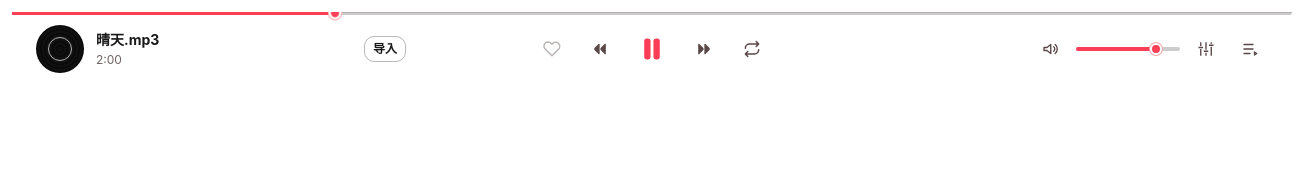
Scenario: PlayerBar (task 11.7) — temporary item label › imports the current temporary file when clicked
Step 1. Click the button "导入" → click(385, 49), box x1=364 y1=36 x2=406 y2=62
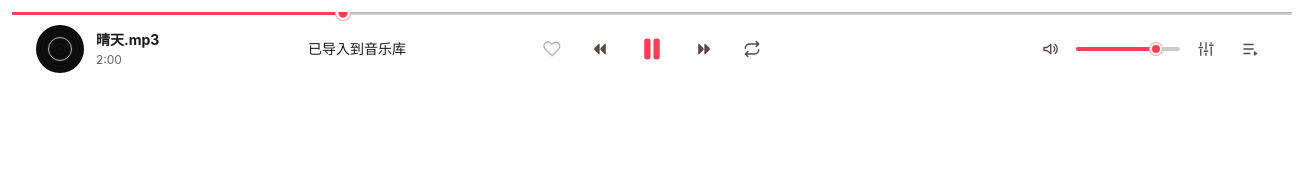
Result: the text with test id "player-import-result" reads "已导入到音乐库" at x1=308 y1=40 x2=406 y2=57
